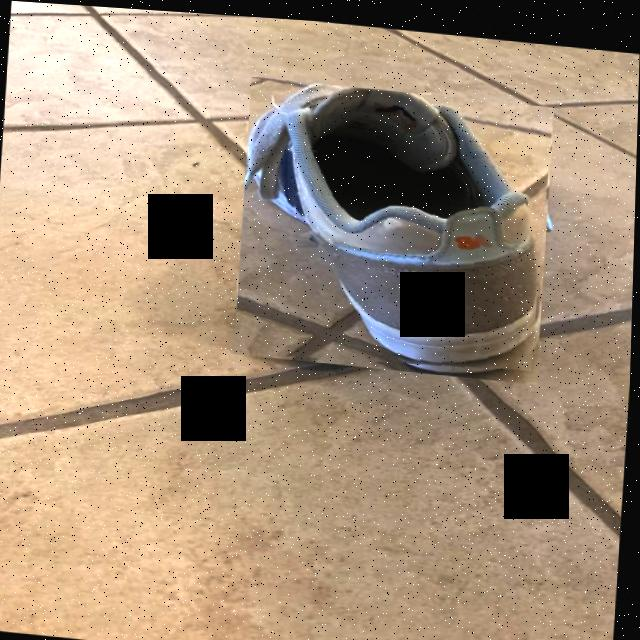shoe: (235, 72, 555, 377)
